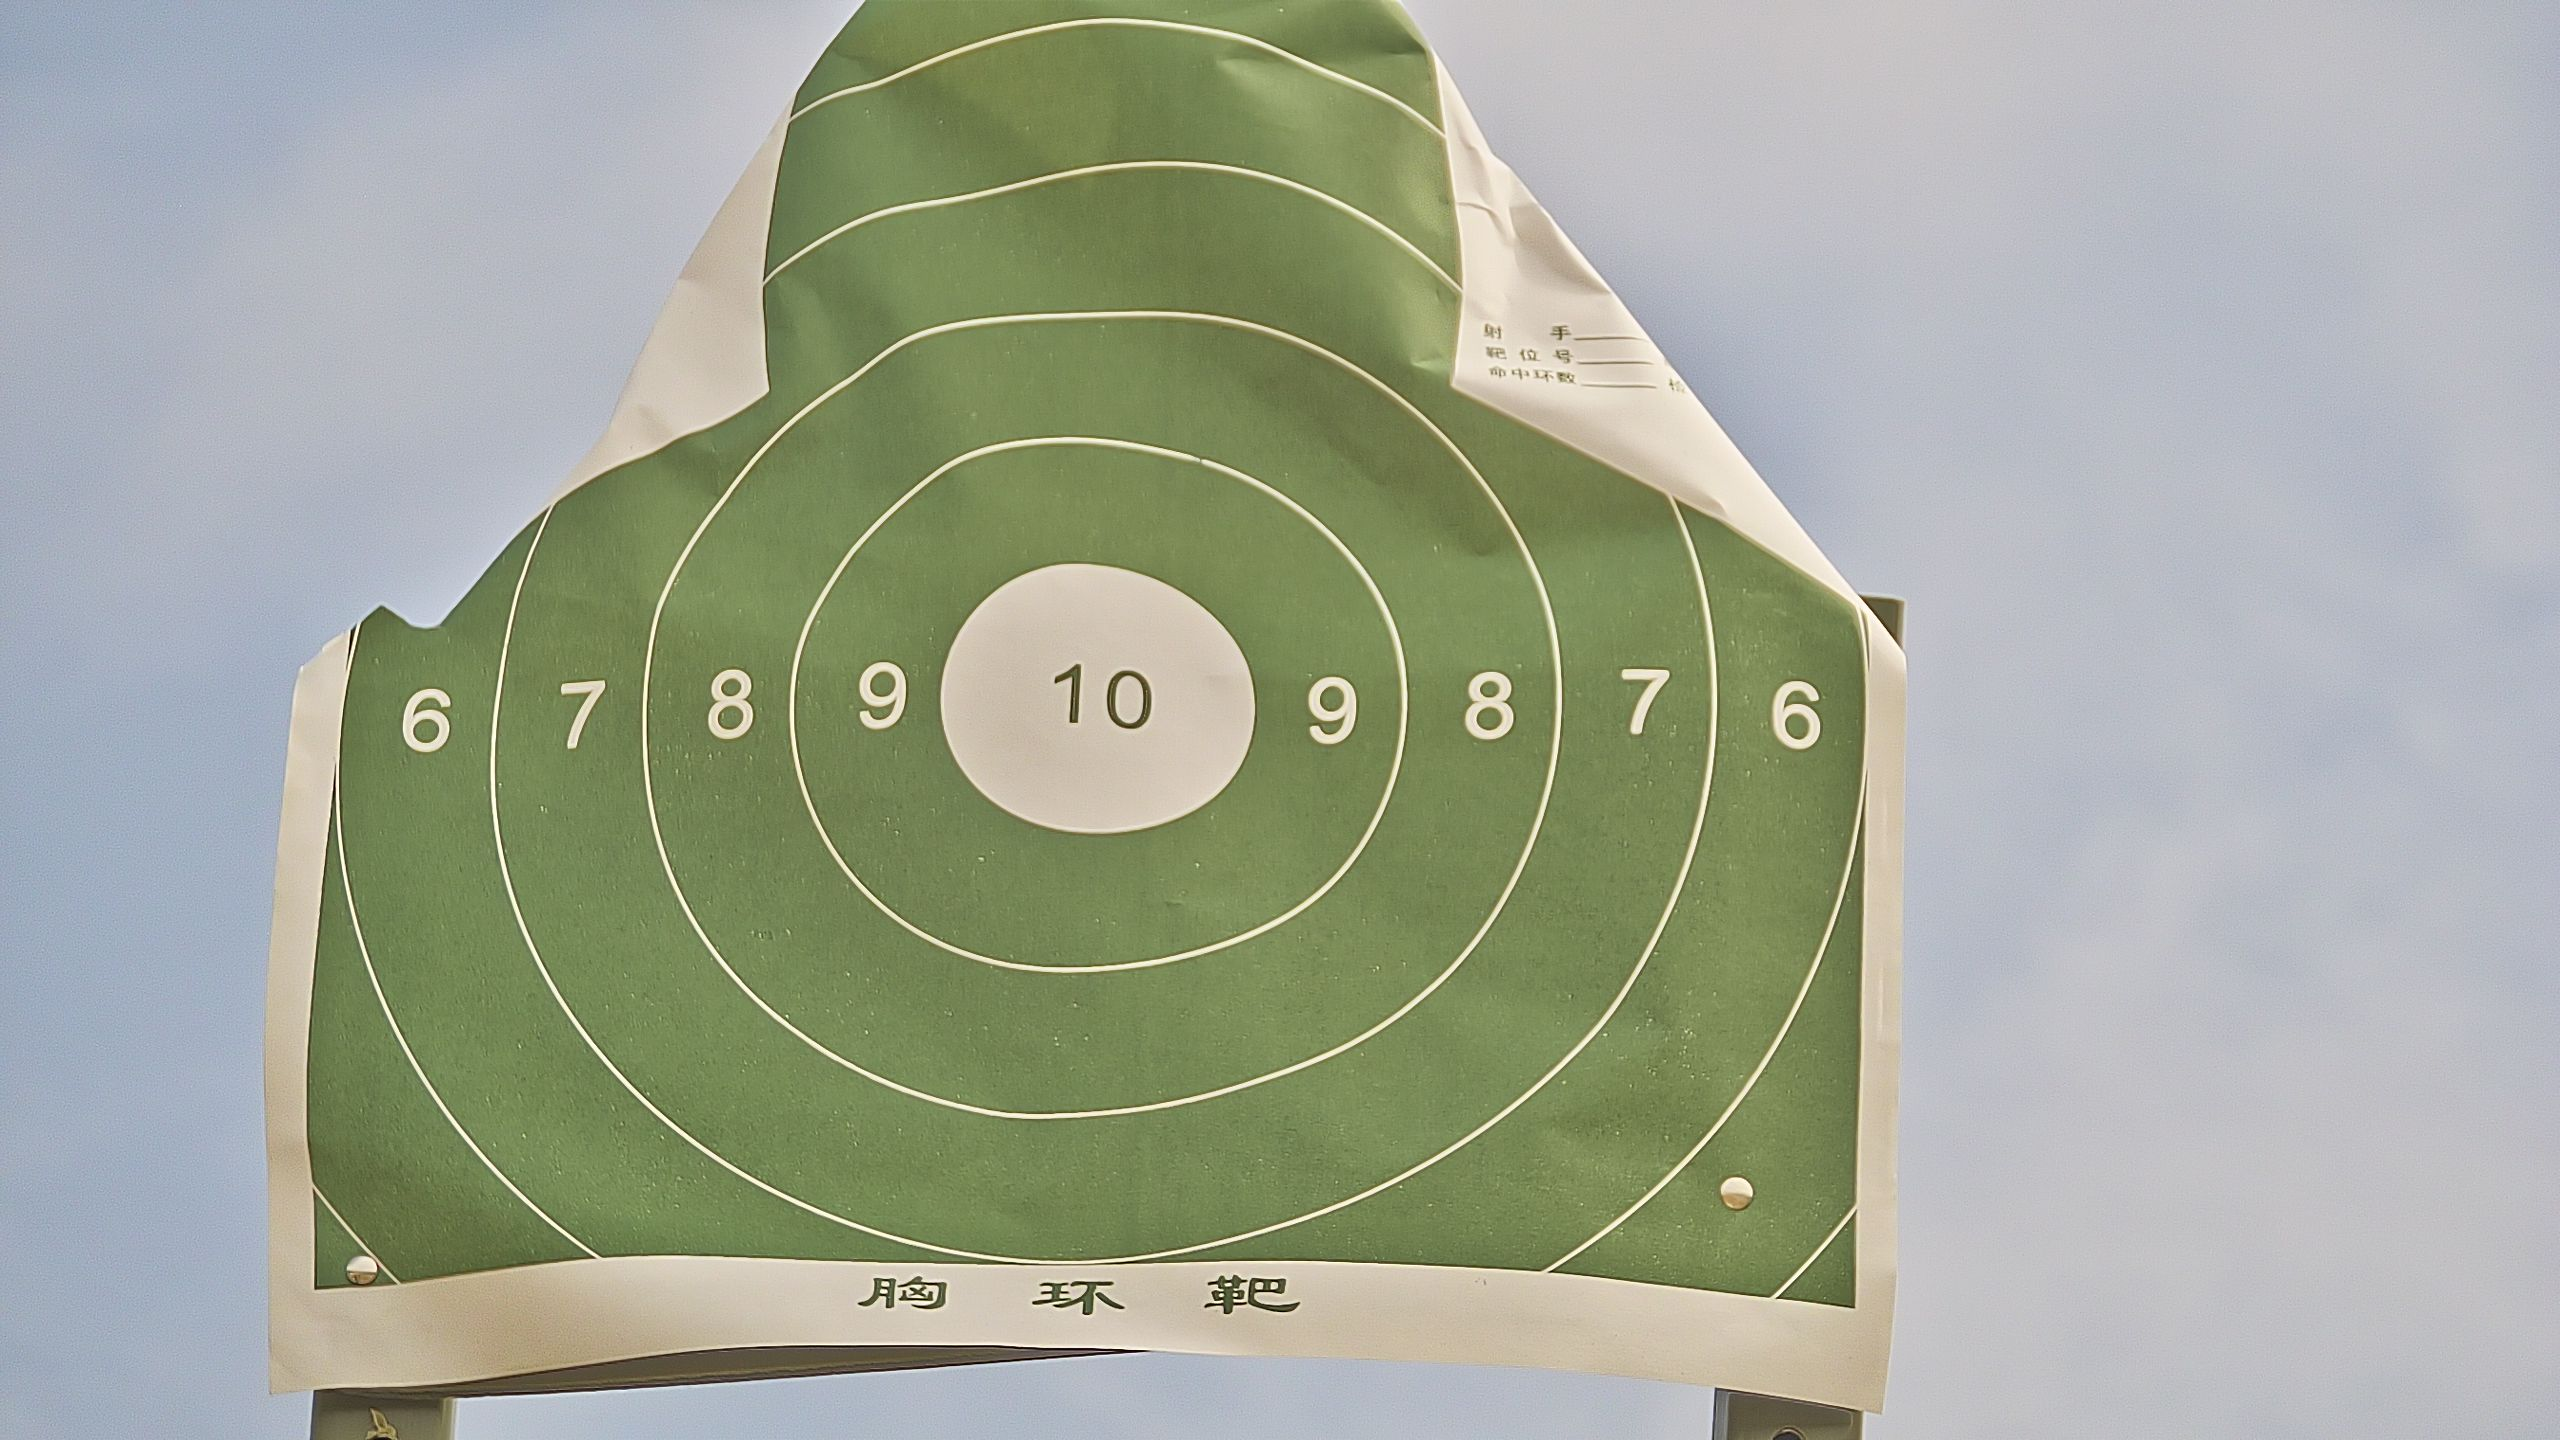kernel: (1094, 696, 1097, 705)
target: (294, 7, 1860, 1310)
ten: (939, 554, 1255, 839)
